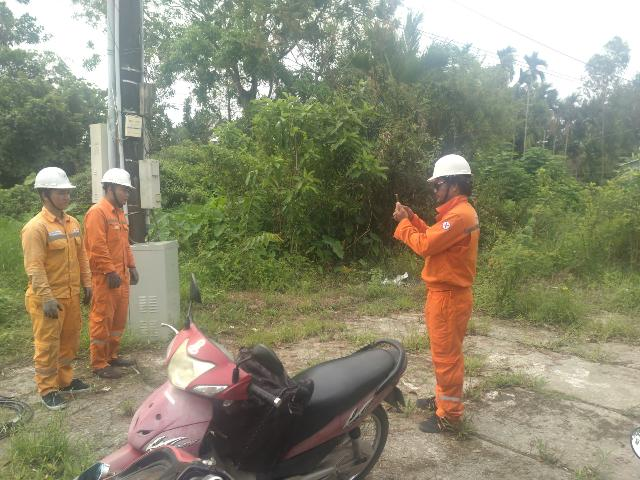gloves: (36, 295, 68, 319), (79, 282, 95, 304), (106, 269, 121, 290), (128, 263, 140, 286)
helmet: (421, 141, 476, 189), (28, 162, 79, 196), (94, 167, 139, 192)
shoes: (415, 406, 462, 437), (31, 386, 73, 412), (408, 386, 449, 412), (58, 372, 91, 395), (102, 346, 136, 368), (92, 360, 121, 384)
